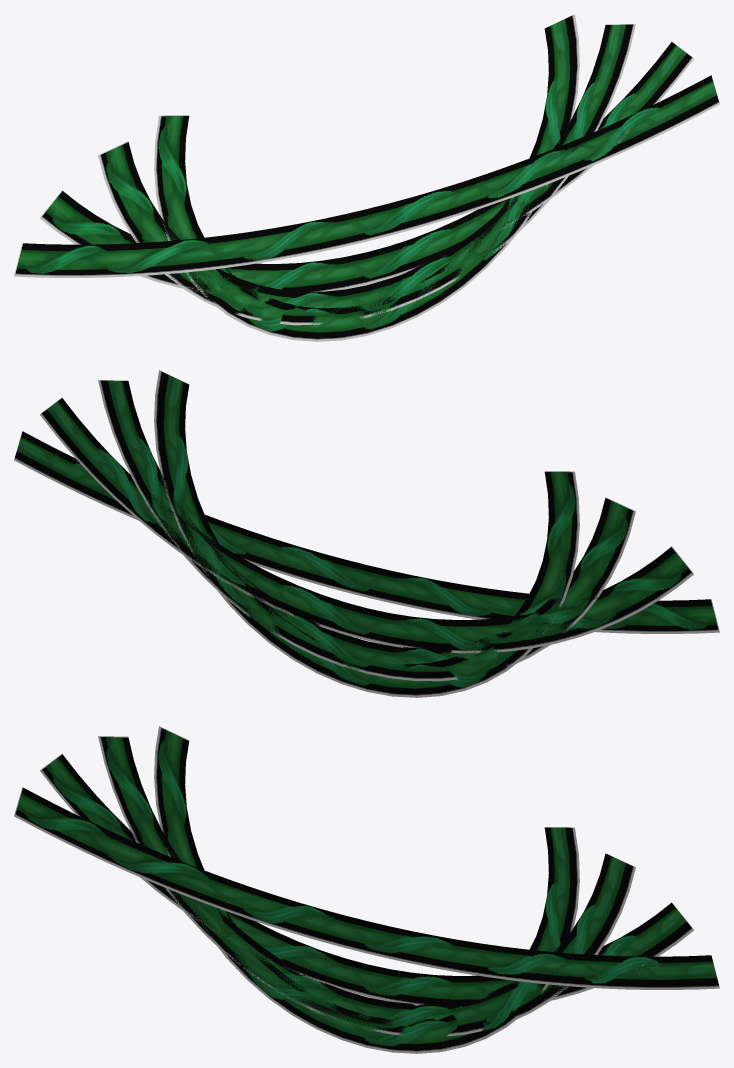
Rendered from Vines.fbx.
3 views of the same model, one above another, from view 1: azimuth 30°, elevation 25°; view 2: azimuth 150°, elevation 25°; view 3: azimuth 330°, elevation 25° (orthographic).
Parts seen in each view (by area): view 1: Vine03, Vine02, Vine04, Vine01; view 2: Vine01, Vine04, Vine02, Vine03; view 3: Vine03, Vine04, Vine02, Vine01.
Part boxes in pixels (x1=…): Vine03: x1=14, y1=75, x2=719, y2=277; Vine02: x1=154, y1=14, x2=579, y2=341; Vine04: x1=98, y1=24, x2=635, y2=325; Vine01: x1=40, y1=42, x2=693, y2=295; Vine01: x1=40, y1=398, x2=693, y2=653; Vine04: x1=98, y1=380, x2=635, y2=681; Vine02: x1=154, y1=370, x2=579, y2=697; Vine03: x1=14, y1=431, x2=719, y2=633; Vine03: x1=14, y1=787, x2=719, y2=989; Vine04: x1=98, y1=736, x2=635, y2=1036; Vine02: x1=154, y1=726, x2=579, y2=1053; Vine01: x1=40, y1=754, x2=693, y2=1008.
Size of the model in its own units: 787 by 4e-05 by 289.
